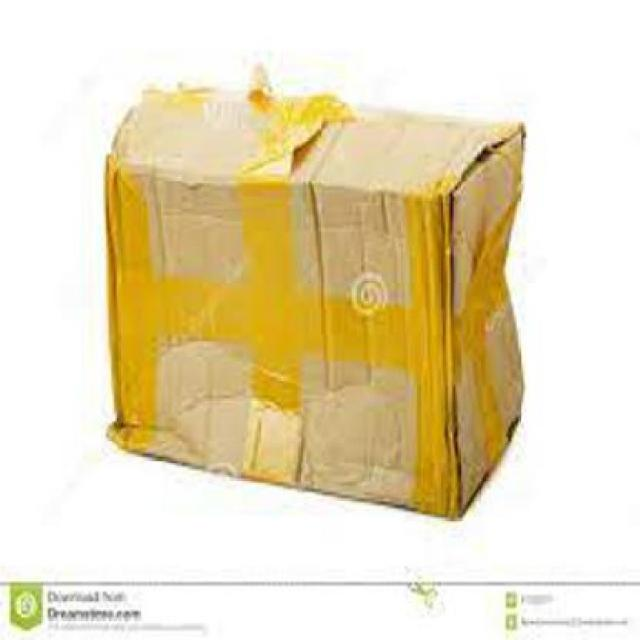defect: (100, 64, 532, 518)
